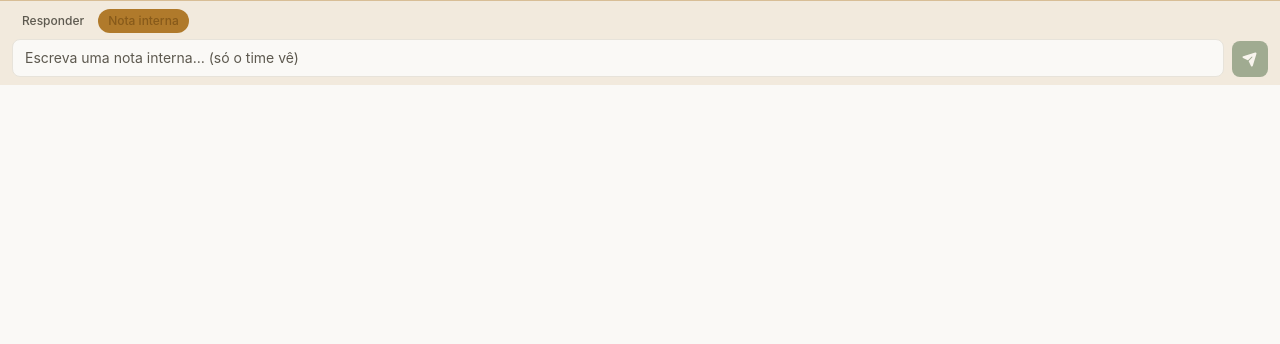
Scenario: a faixa da assistência só existe com rascunho (issue #3027) › CONTROLE: em modo NOTA não há botão de sugestão nem bloco
Click the button "Responder": (53, 21) [12,9,94,33]
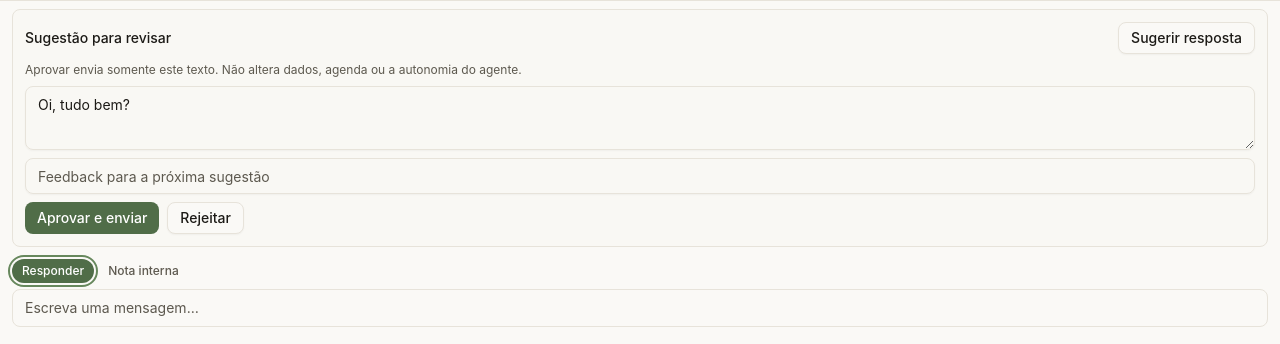
Now the text "Sugestão para revisar" is shown, box [25,28,171,48]
Now the element named "Assistência do agente" is shown
